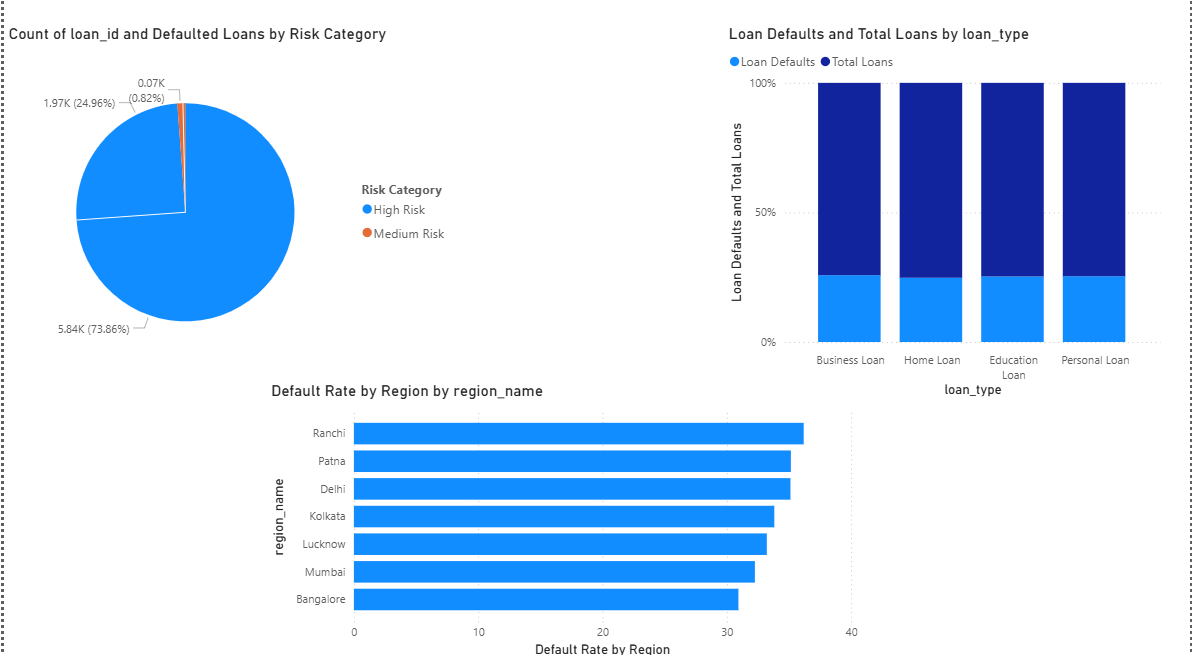

What the dashboard file says about the page in this screenshot:
{"tool":"powerbi","page":{"name":"Page 1","canvas":[1280,720],"ordinal":3},"visuals":[{"type":"pieChart","fields":{"Category":["Customers.Risk Category"],"Y":["CountNonNull(Loans.loan_id)","Loans.Defaulted Loans"]},"box":[0,34,493.9,385.4],"z":0},{"type":"hundredPercentStackedColumnChart","fields":{"Category":["Loans.loan_type"],"Y":["Loans.Loan Defaults","Loans.Total Loans"]},"box":[777.2,34,476.1,406.4],"z":1000},{"type":"barChart","fields":{"Category":["Regions.region_name"],"Y":["Regions.Default Rate by Region"]},"box":[283.4,419.4,642.8,301.2],"z":2000}]}

Visuals, with their boxes in screenshot pixels (x1, y1, x2, y2), scaled from the page's 1280x720 canvas onto the 1192x655 screenshot:
pieChart - Customers.Risk Category x CountNonNull(Loans.loan_id): box=[0, 31, 460, 382]
hundredPercentStackedColumnChart - Loans.loan_type x Loans.Loan Defaults: box=[724, 31, 1167, 401]
barChart - Regions.region_name x Regions.Default Rate by Region: box=[264, 382, 863, 654]
